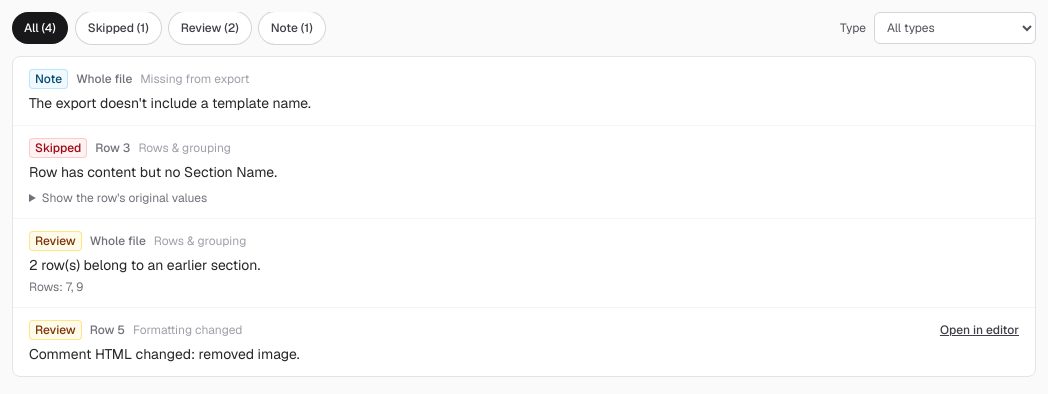
IssueList › filters by type, explains it, and links to the comment in the editor
Select "Formatting changed (1)" in the dropdown labelled "Type". click: [955, 28]
box: x1=874 y1=12 x2=1036 y2=44
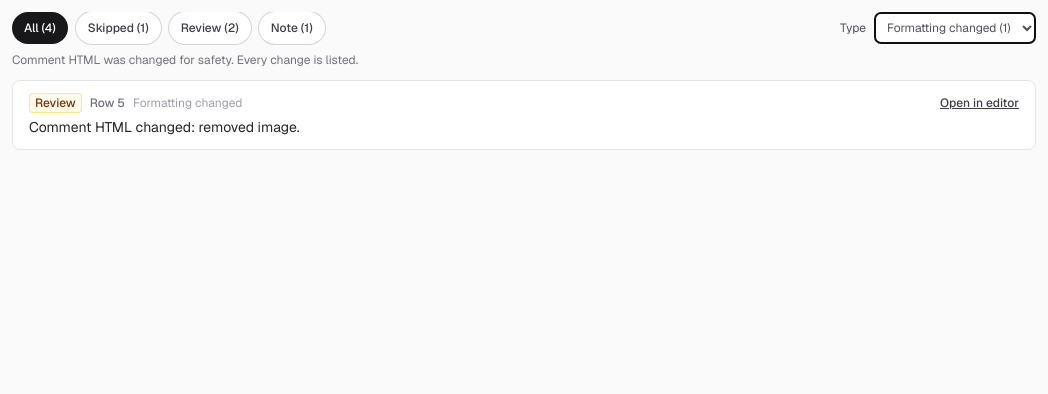
expect the text "Comment HTML was changed for safety. Every change is listed." is shown: met, box x1=12 y1=52 x2=358 y2=68
expect the number of list items is 1: met, box x1=13 y1=81 x2=1035 y2=149
Click the button "Skipped (1)". click: [118, 28]
box: x1=76 y1=12 x2=161 y2=44
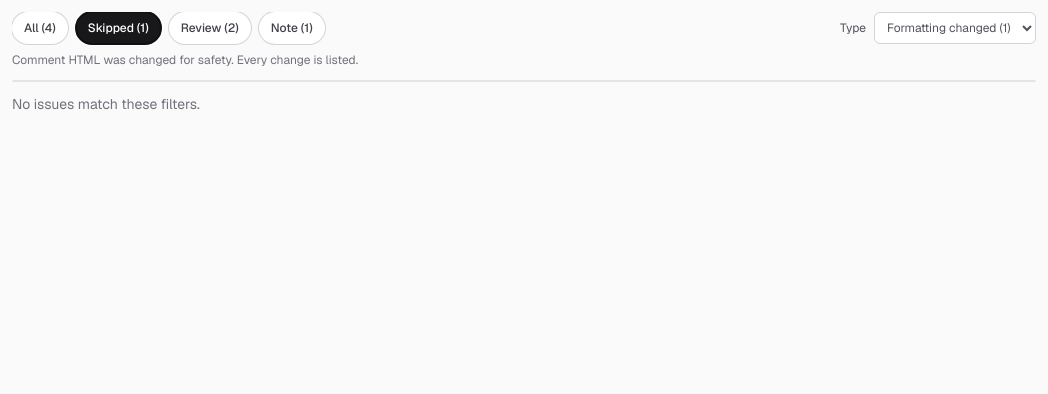
expect the text "No issues match these filters." is shown: met, box x1=12 y1=95 x2=200 y2=113
